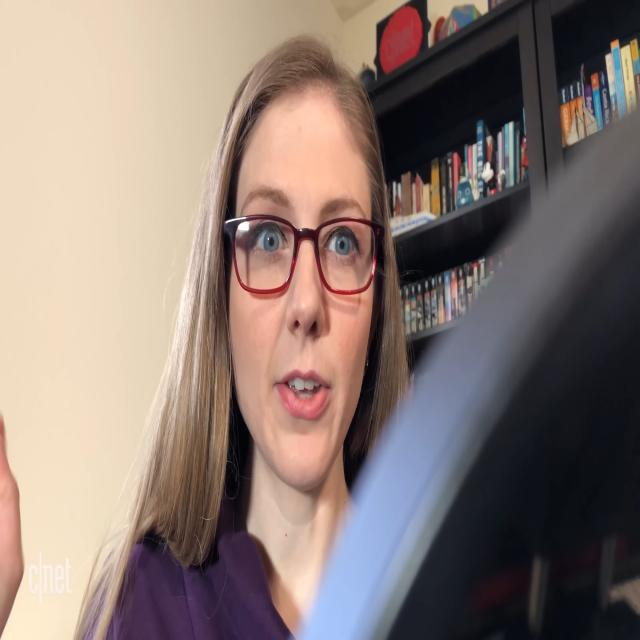dress: (79, 489, 435, 640)
glasses: (225, 203, 386, 304)
